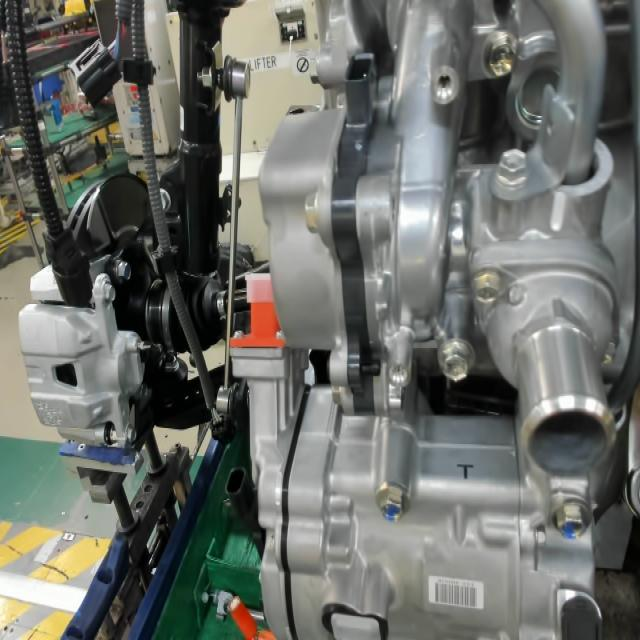Compressor-T: (455, 460, 476, 482)
